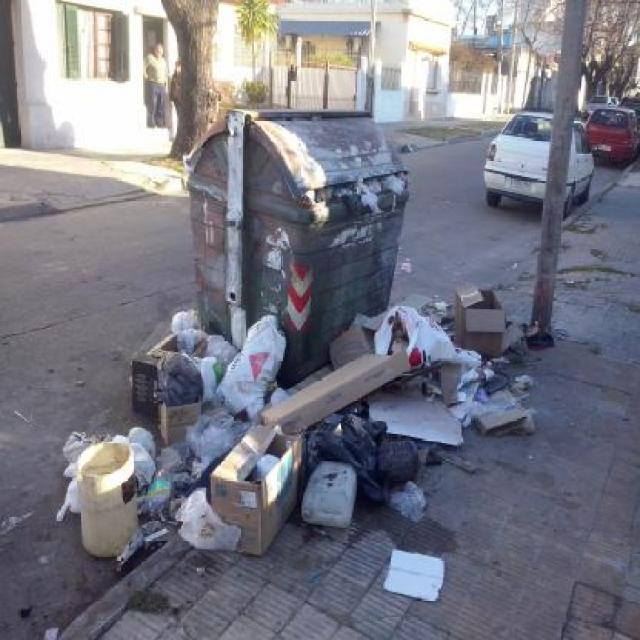garbage: (137, 298, 318, 566), (351, 314, 495, 446), (70, 436, 203, 559), (293, 388, 403, 526)
